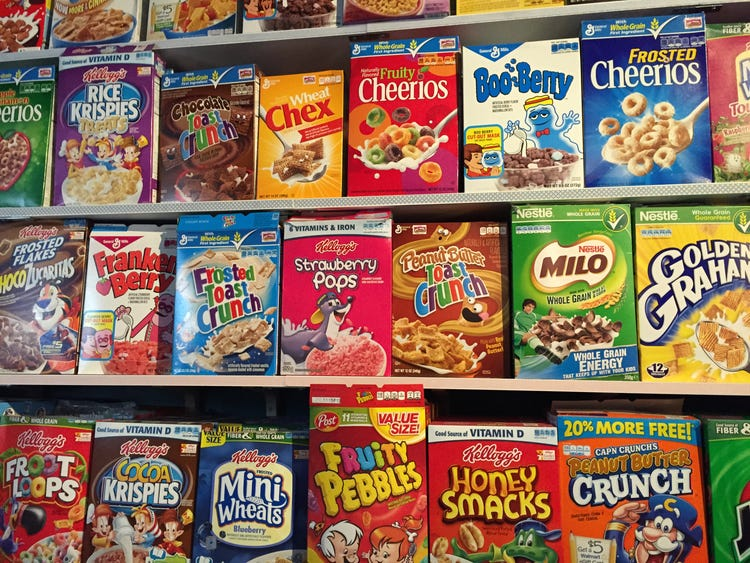cereal: (508, 203, 640, 385), (577, 20, 710, 185), (566, 420, 699, 563), (310, 404, 426, 563), (640, 208, 748, 378), (427, 429, 559, 563), (462, 46, 584, 190), (395, 226, 507, 379), (50, 49, 160, 202), (85, 426, 203, 563), (286, 222, 391, 374), (351, 45, 457, 191), (179, 228, 279, 374), (158, 63, 255, 204), (195, 448, 311, 563), (1, 429, 94, 563), (1, 233, 89, 374), (88, 231, 174, 373), (254, 70, 343, 197)
